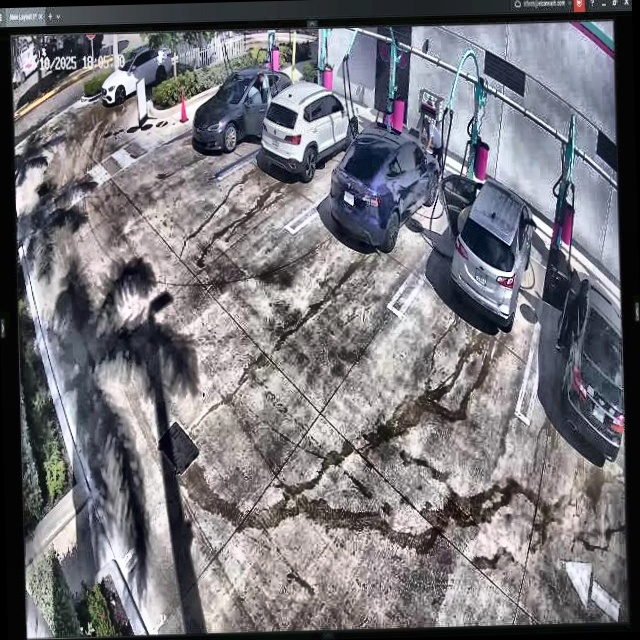Car: (439, 169, 534, 328), (329, 125, 442, 253), (187, 68, 294, 157), (263, 83, 360, 179)
